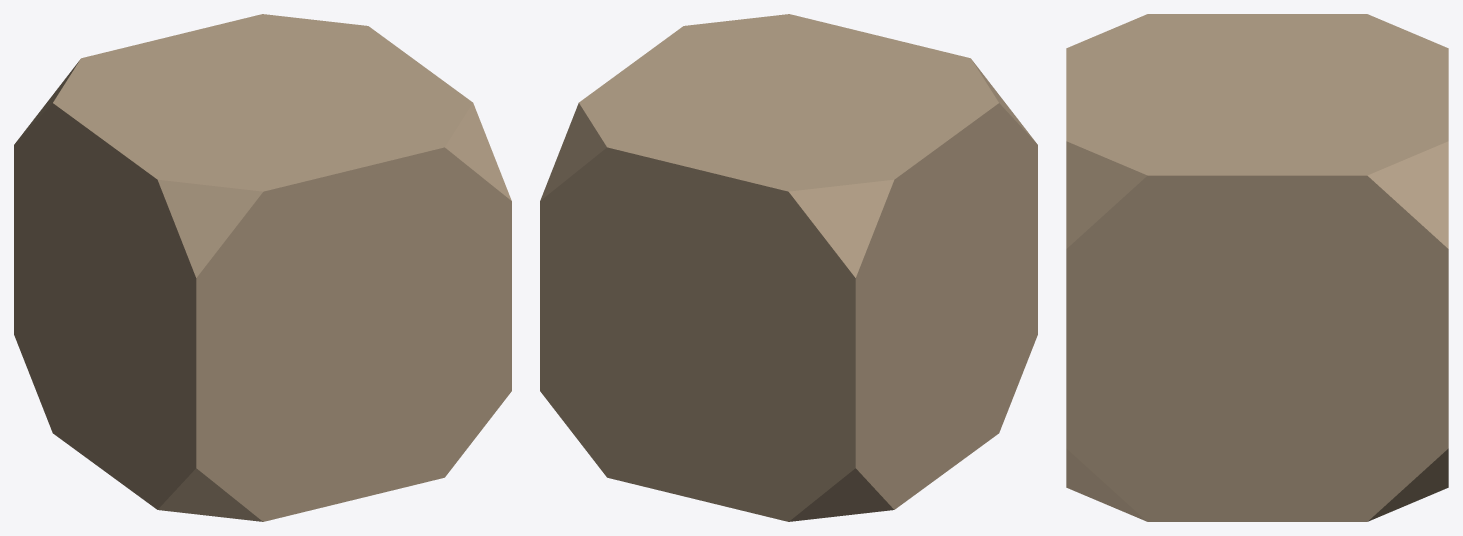
File: Cube Block_4.fbx
The picture shows the model from 3 angles, left to right: view 1: azimuth 30°, elevation 25°; view 2: azimuth 150°, elevation 25°; view 3: azimuth 270°, elevation 25°; orthographic projection. The views are drawn at different scales.
Visible parts, largest first — view 1: Cube Block_4; view 2: Cube Block_4; view 3: Cube Block_4.
Part boxes in pixels (bbox=[...]): Cube Block_4: bbox=[14, 14, 511, 521]; Cube Block_4: bbox=[540, 14, 1037, 521]; Cube Block_4: bbox=[1066, 14, 1448, 521].
Size of the model in its own units: 0.5394 by 0.5394 by 0.5394.
